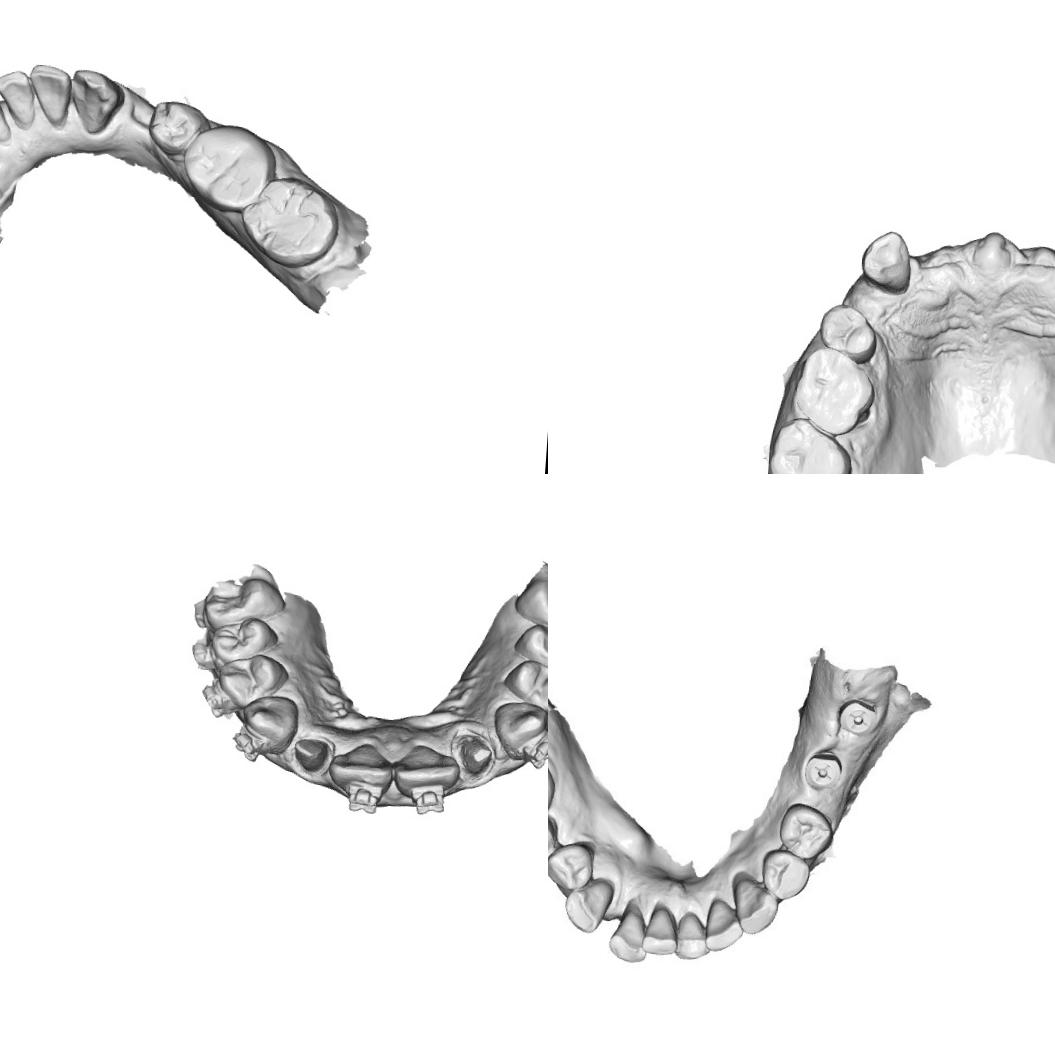canine: (66, 66, 127, 136), (238, 690, 298, 754), (858, 229, 914, 294), (491, 699, 548, 759), (560, 875, 616, 936), (728, 872, 780, 936)
crown: (453, 732, 500, 778), (288, 734, 331, 772)
implant_plus: (797, 743, 848, 801), (832, 692, 880, 744)
incisor: (331, 740, 400, 792), (25, 62, 74, 128), (396, 742, 457, 790), (0, 67, 39, 130), (611, 902, 652, 960), (704, 899, 743, 952), (672, 908, 713, 956), (646, 900, 681, 953), (0, 82, 14, 146)
molar: (236, 172, 342, 271), (178, 120, 279, 215), (790, 342, 878, 440), (764, 414, 855, 474), (199, 574, 284, 631), (511, 571, 548, 633)
premolar: (144, 98, 214, 168), (213, 650, 291, 704), (815, 302, 880, 365), (773, 800, 836, 861), (209, 612, 280, 665), (757, 844, 812, 903), (548, 837, 597, 895), (500, 655, 548, 713), (510, 621, 548, 668), (548, 815, 560, 869)
